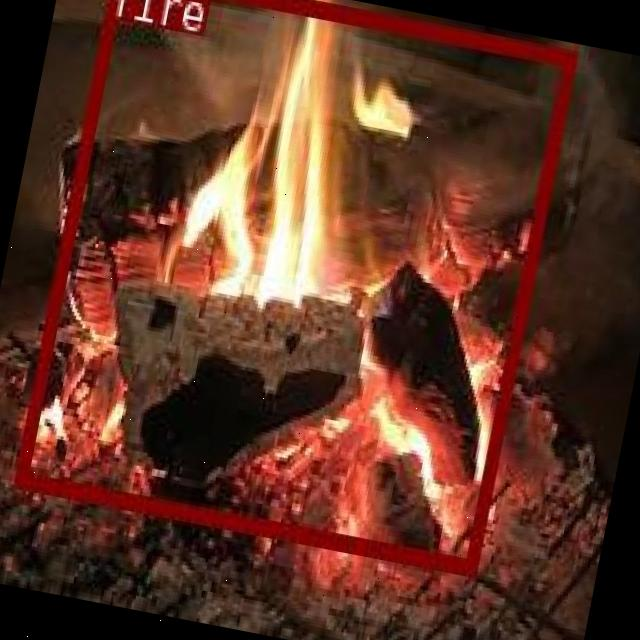fire: (12, 0, 576, 573)
